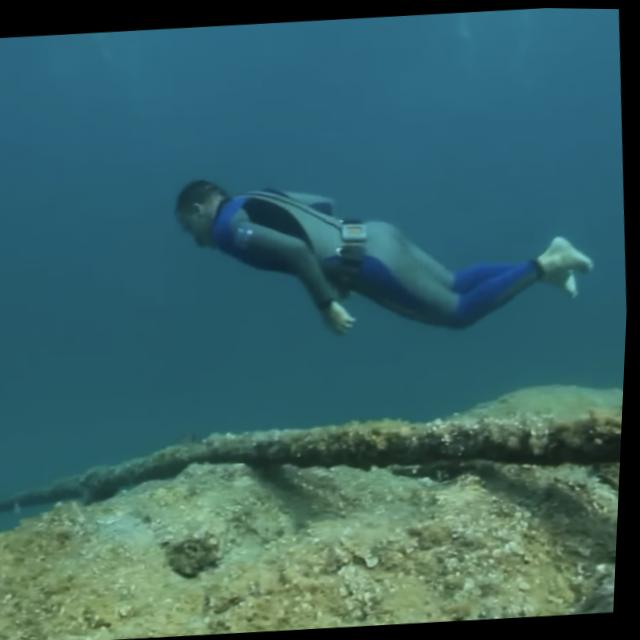human: (164, 138, 613, 359)
